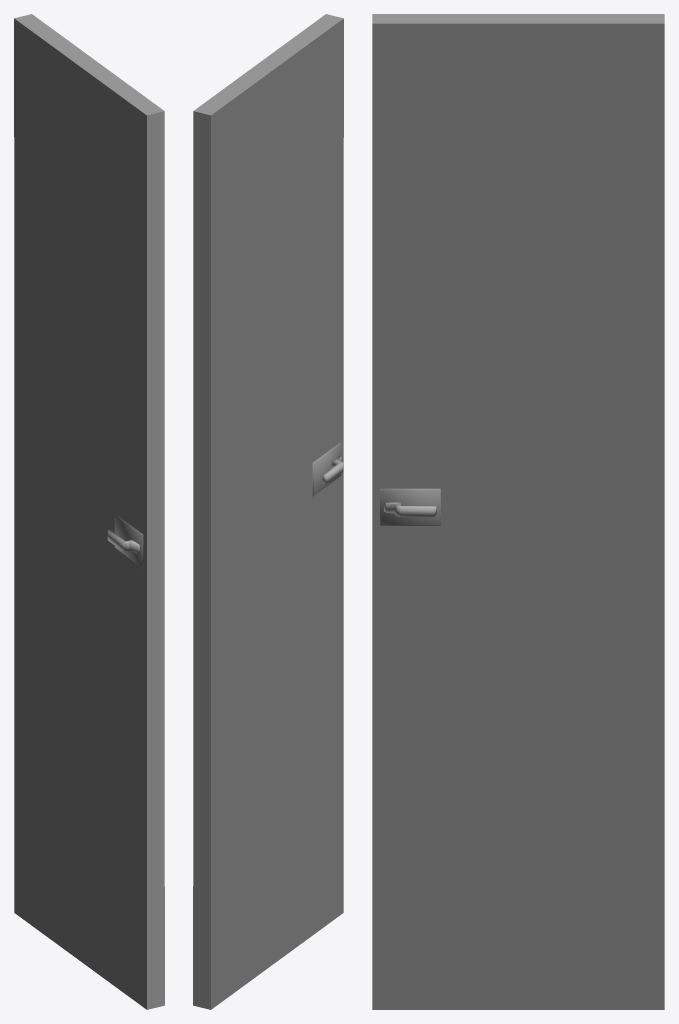
Rendered from SW_VEH_Train_Driver_Door.fbx.
The picture shows the model from 3 angles, left to right: view 1: azimuth 30°, elevation 25°; view 2: azimuth 150°, elevation 25°; view 3: azimuth 270°, elevation 25°; orthographic projection. The views are drawn at different scales.
Parts seen in each view (by area): view 1: SW_VEH_Train_Driver_Door; view 2: SW_VEH_Train_Driver_Door; view 3: SW_VEH_Train_Driver_Door.
Part boxes in pixels (<box>): SW_VEH_Train_Driver_Door: <box>14,14,164,1009</box>; SW_VEH_Train_Driver_Door: <box>193,14,343,1009</box>; SW_VEH_Train_Driver_Door: <box>372,14,664,1009</box>.
Bounding box in the file's own units: 0.0961 × 1.95 × 0.5236.
